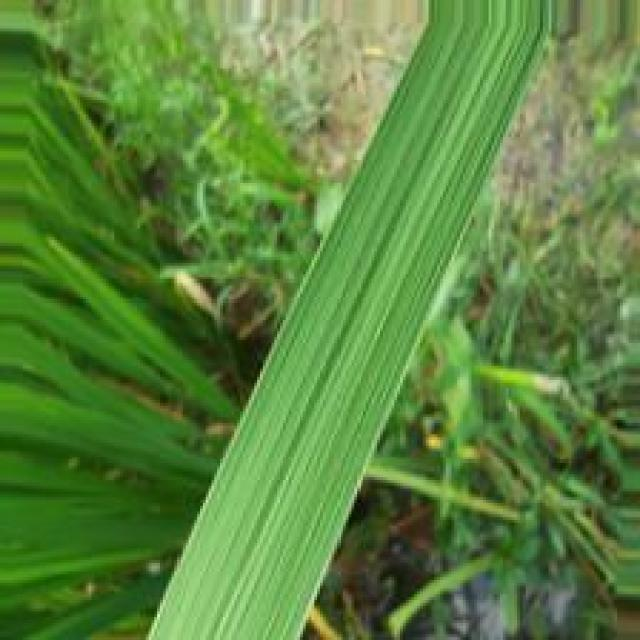HealthyLeaf: (146, 0, 554, 638)
